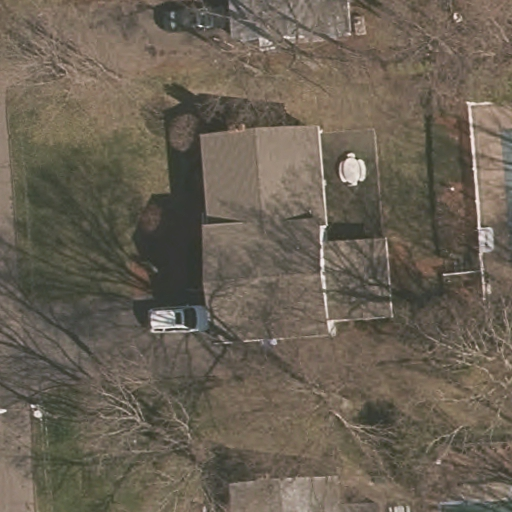DT: (1, 390, 69, 427)
